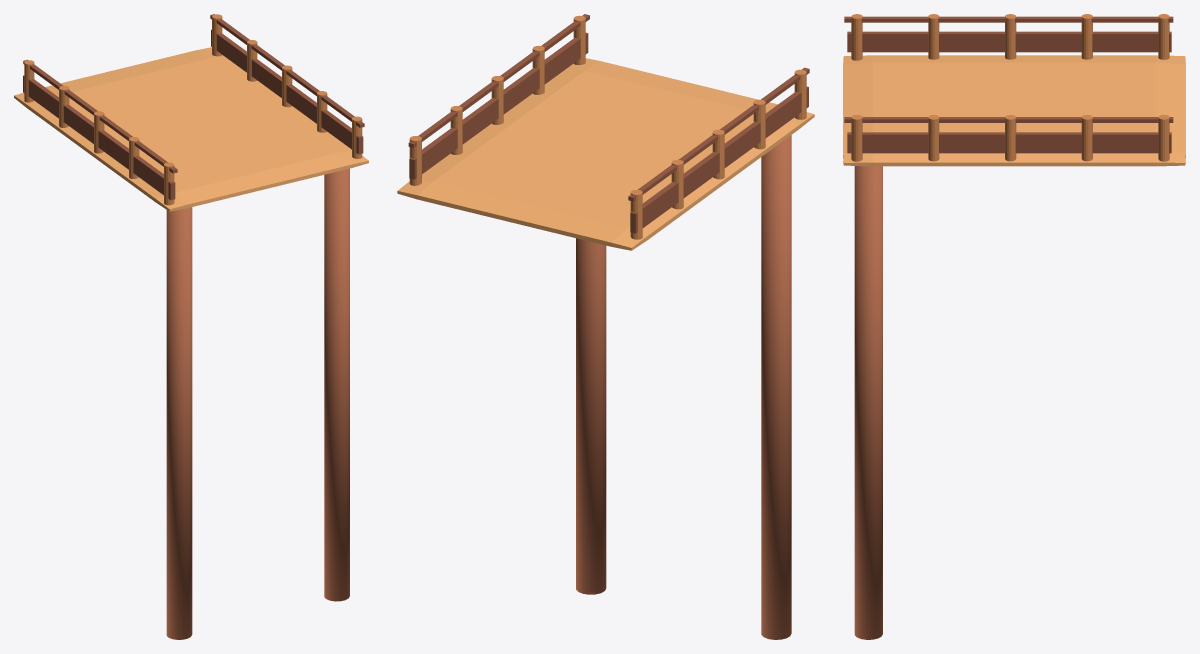
The model's file is deck.fbx.
3 renders of one model, left to right at view 1: azimuth 30°, elevation 25°; view 2: azimuth 150°, elevation 25°; view 3: azimuth 270°, elevation 25°, orthographic. The views are drawn at different scales.
Parts seen in each view (by area): view 1: Cylinder.012; view 2: Cylinder.012; view 3: Cylinder.012.
Boxes of the visible parts, bbox=[...] form: Cylinder.012: bbox=[14, 14, 368, 639]; Cylinder.012: bbox=[397, 14, 814, 639]; Cylinder.012: bbox=[843, 14, 1185, 639].
Size of the model in its own units: 1780 by 4064 by 2406.
